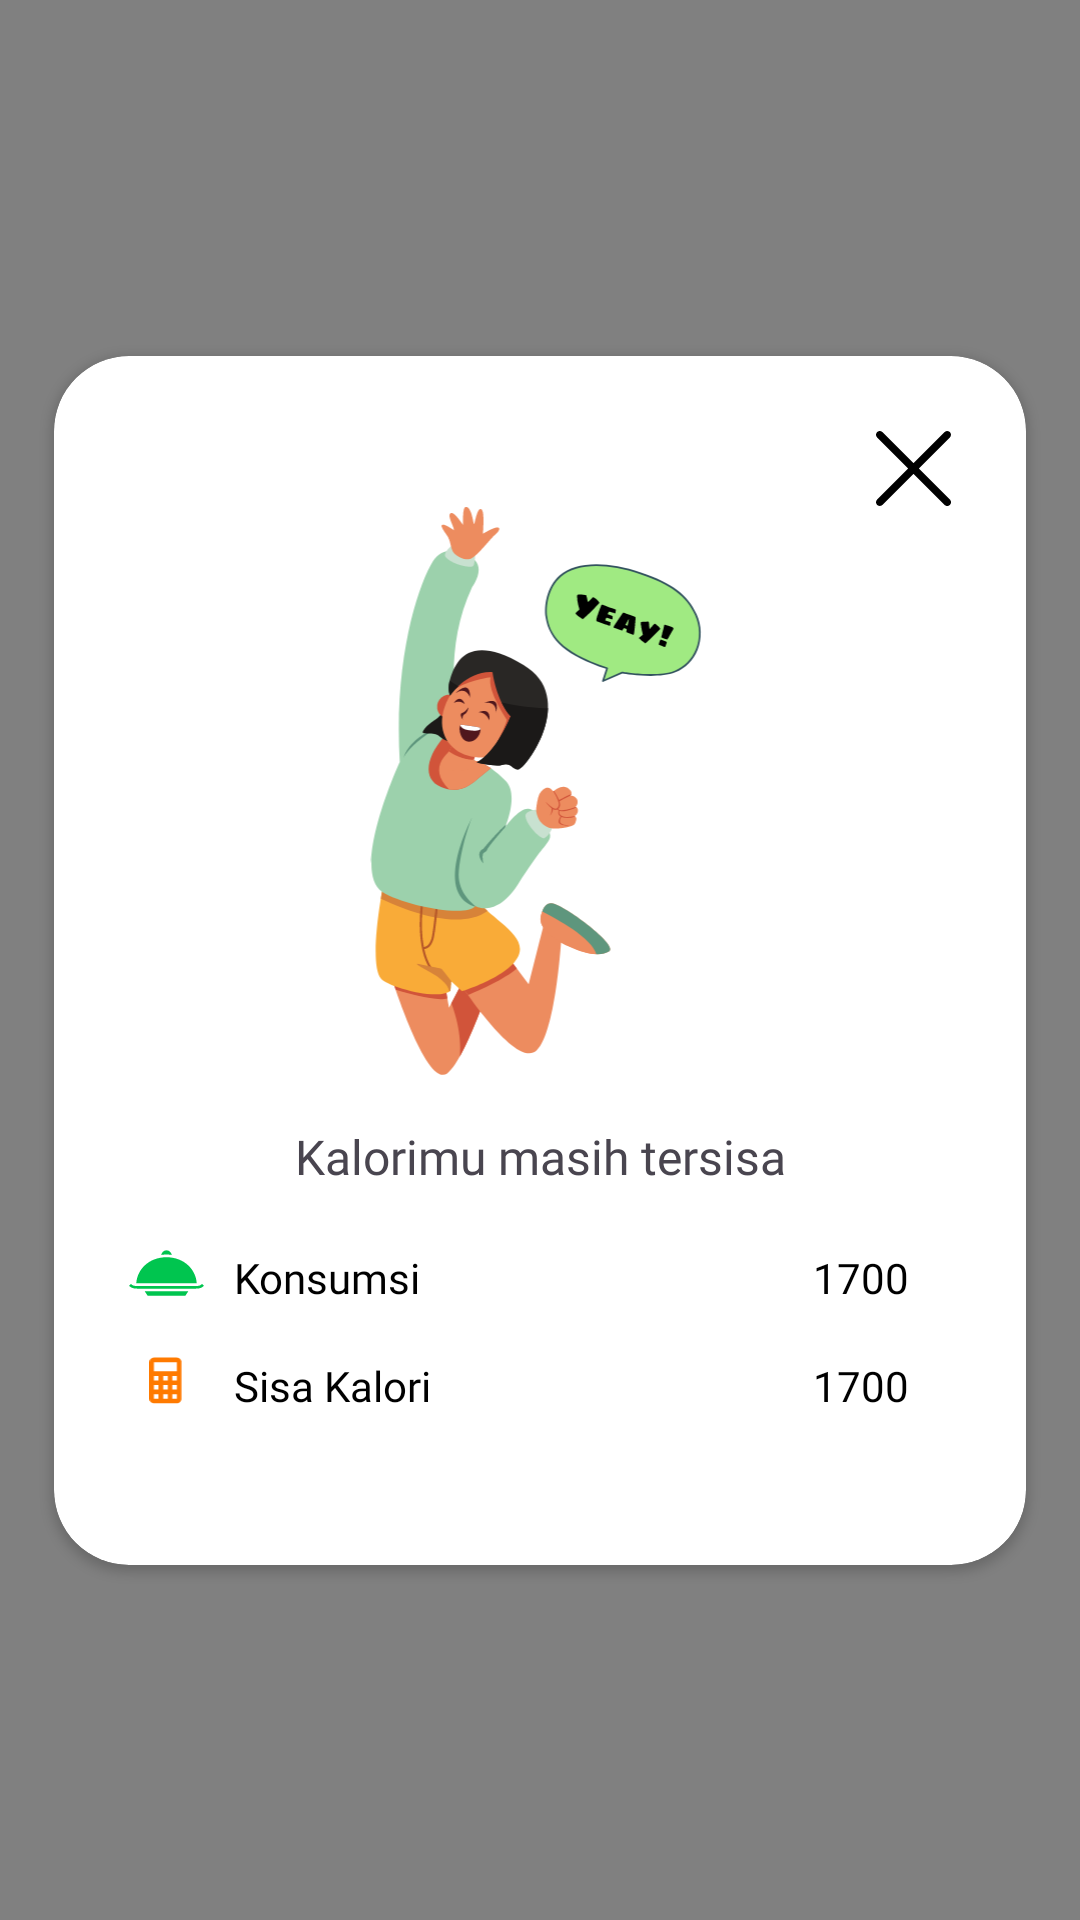

Icons on this 1080 × 1920 Android screen, each with the point to tap as [x,y]:
calculator: [165,1380]
cancel: [913,468]
food: [166,1273]
